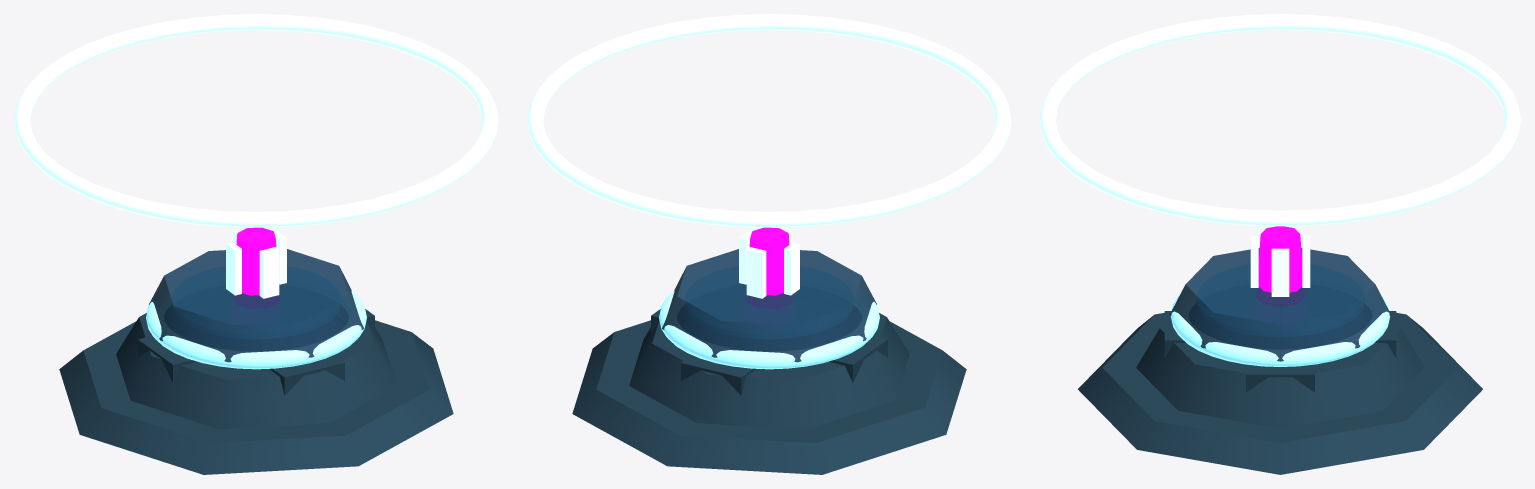
File: courtyard-fountain.glb
3 renders of one model, left to right at view 1: azimuth 30°, elevation 25°; view 2: azimuth 150°, elevation 25°; view 3: azimuth 270°, elevation 25°, orthographic.
Parts seen in each view (by area): view 1: courtyard-fountain-body, upper-halo, courtyard-fountain-transparent|#1a3d5a|#17384a|0.08|0.55|0.2, water-ring, courtyard-fountain-emissive, core; view 2: courtyard-fountain-body, upper-halo, courtyard-fountain-transparent|#1a3d5a|#17384a|0.08|0.55|0.2, water-ring, courtyard-fountain-emissive, core; view 3: courtyard-fountain-body, upper-halo, courtyard-fountain-transparent|#1a3d5a|#17384a|0.08|0.55|0.2, water-ring, core, courtyard-fountain-emissive.
Boxes of the visible parts, x1,y1,x2,y2 form: courtyard-fountain-body: [59, 309, 453, 474]; upper-halo: [14, 14, 498, 227]; courtyard-fountain-transparent|#1a3d5a|#17384a|0.08|0.55|0.2: [149, 249, 363, 362]; water-ring: [146, 291, 366, 369]; courtyard-fountain-emissive: [226, 229, 286, 298]; core: [236, 227, 276, 295]; courtyard-fountain-body: [572, 309, 966, 474]; upper-halo: [527, 14, 1011, 227]; courtyard-fountain-transparent|#1a3d5a|#17384a|0.08|0.55|0.2: [662, 249, 876, 362]; water-ring: [659, 291, 879, 369]; courtyard-fountain-emissive: [739, 229, 799, 298]; core: [749, 227, 789, 295]; courtyard-fountain-body: [1078, 311, 1482, 474]; upper-halo: [1040, 14, 1520, 226]; courtyard-fountain-transparent|#1a3d5a|#17384a|0.08|0.55|0.2: [1169, 248, 1391, 361]; water-ring: [1170, 294, 1390, 366]; core: [1258, 226, 1302, 292]; courtyard-fountain-emissive: [1250, 235, 1310, 296].
Bounding box in the file's own units: 4.86 × 3.08 × 4.86.
